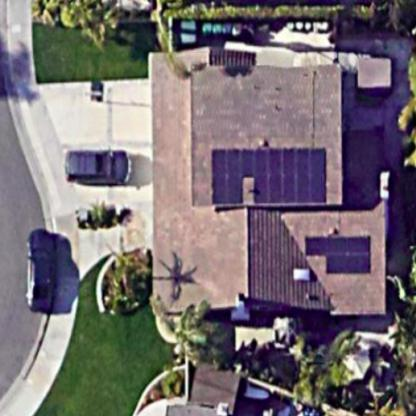car: (22, 215, 62, 315), (61, 146, 136, 187)
solar_panel: (206, 141, 330, 219), (300, 232, 376, 276)
